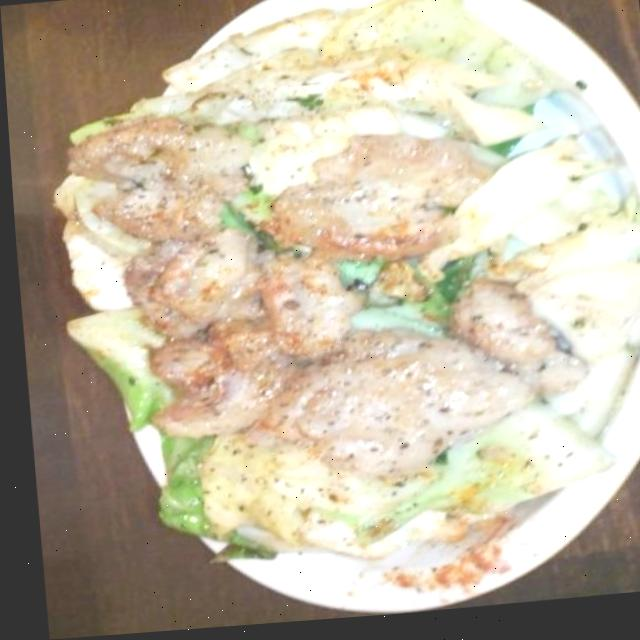蔬菜料理: (23, 0, 640, 618)
